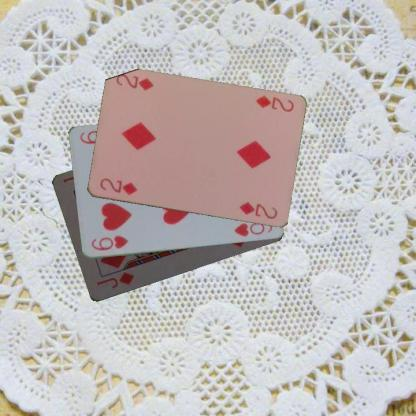2d: (97, 176, 138, 197), (252, 93, 295, 113)
6h: (89, 233, 130, 252)
Jd: (94, 270, 136, 290)
